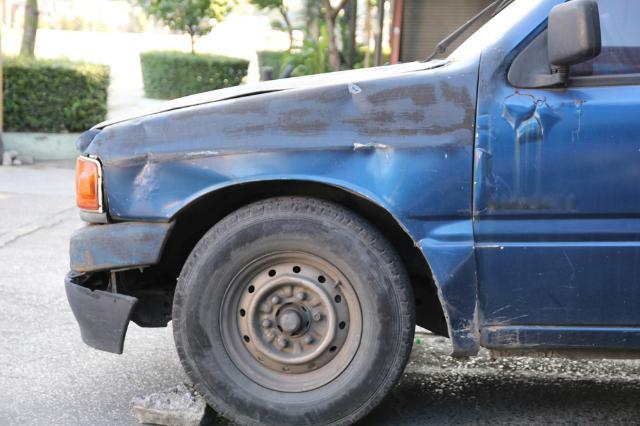Bumper: (60, 221, 169, 354)
Door: (470, 82, 640, 363)
Fender: (70, 62, 486, 358)
